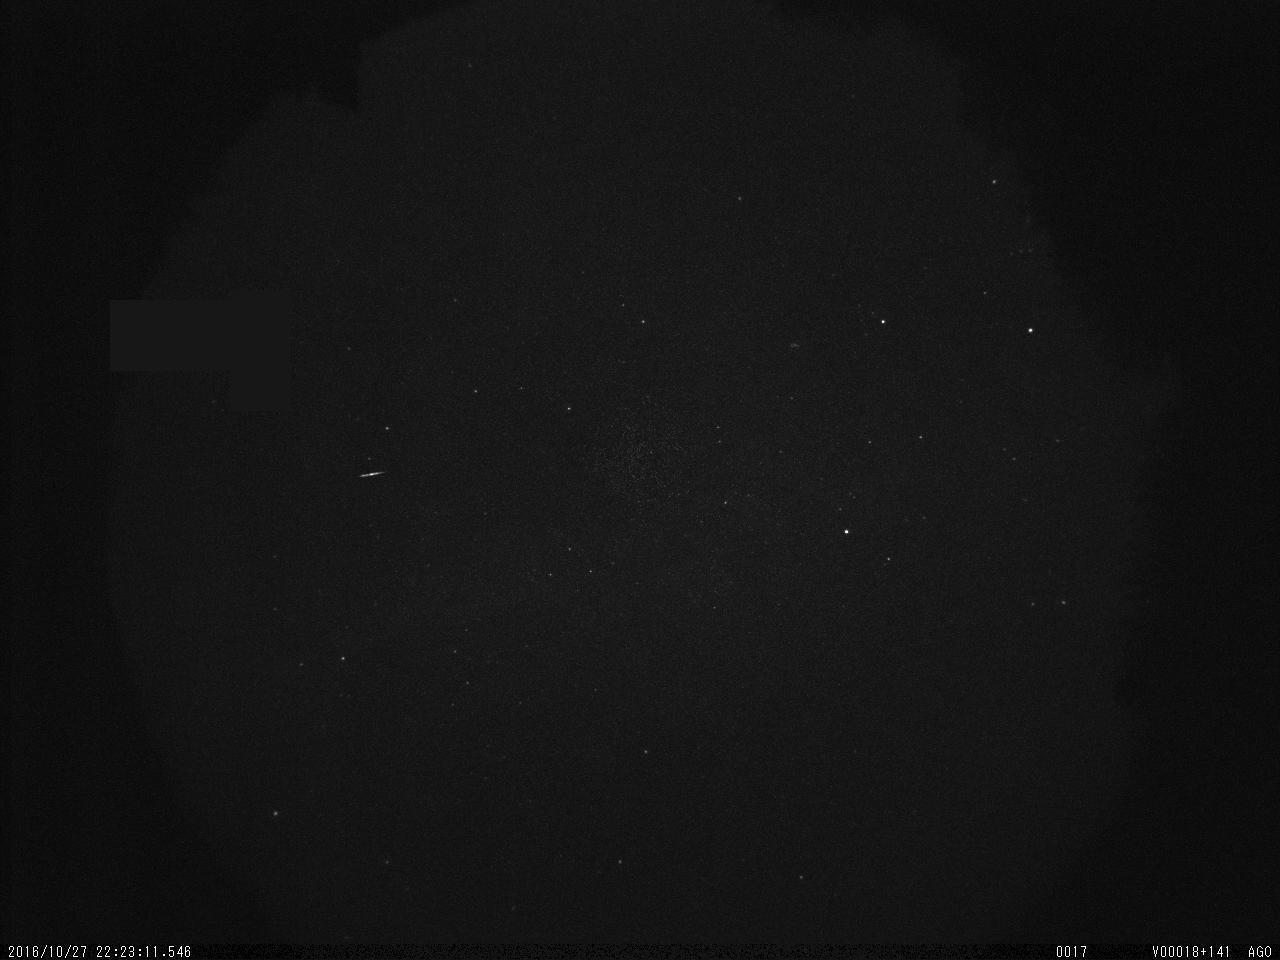meteor: (343, 456, 403, 493)
